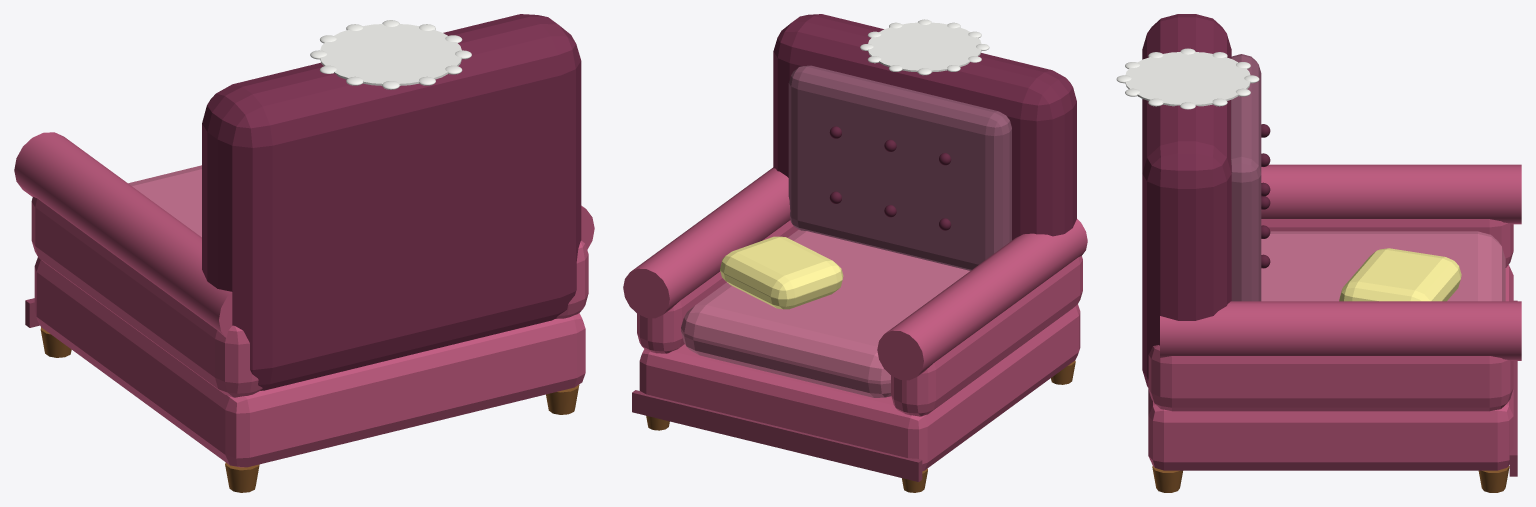
The model's file is armchair.fbx.
3 renders of one model, left to right at view 1: azimuth 30°, elevation 25°; view 2: azimuth 150°, elevation 25°; view 3: azimuth 270°, elevation 25°, orthographic. The views are drawn at different scales.
Visible parts, largest first — view 1: Grandma's Armchair; view 2: Grandma's Armchair; view 3: Grandma's Armchair.
Part boxes in pixels (x1=…): Grandma's Armchair: x1=14, y1=14, x2=594, y2=492; Grandma's Armchair: x1=623, y1=14, x2=1087, y2=492; Grandma's Armchair: x1=1116, y1=14, x2=1521, y2=492.
Size of the model in its own units: 1.93 by 1.9 by 2.04.
